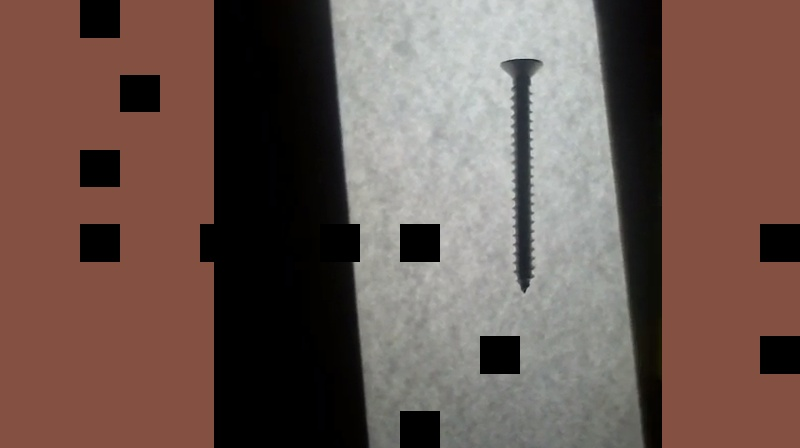S002: (497, 54, 548, 296)
